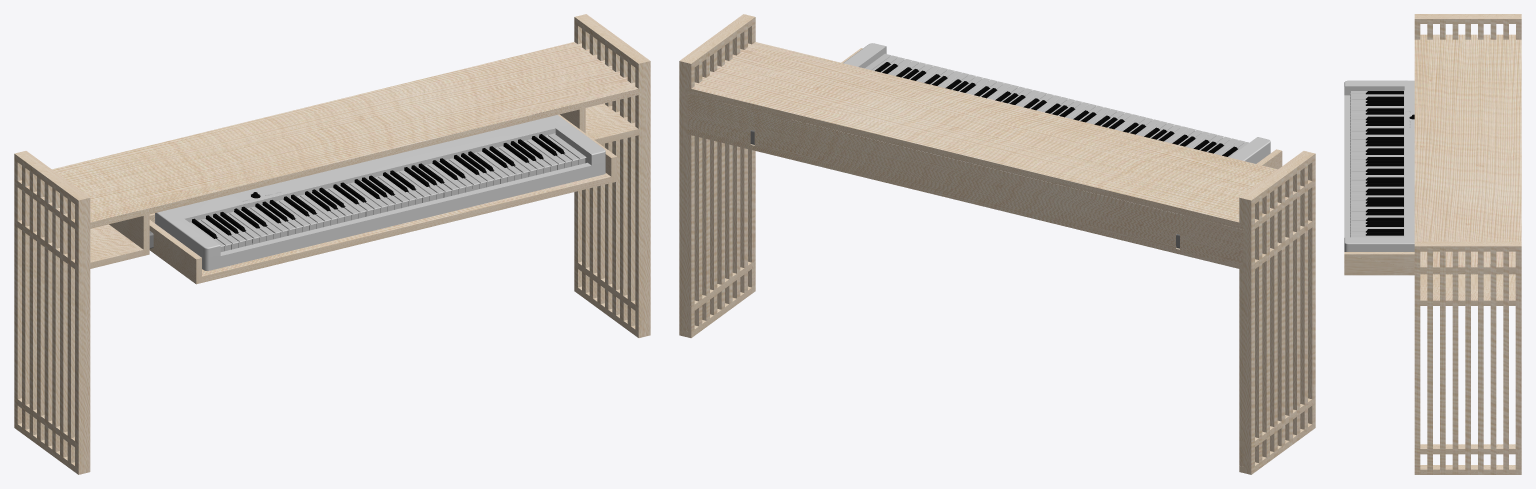
The model's file is site-assets-239.glb.
3 views of the same model, side by side, from view 1: azimuth 30°, elevation 25°; view 2: azimuth 150°, elevation 25°; view 3: azimuth 270°, elevation 25° (orthographic). The views are drawn at different scales.
Parts seen in each view (by area): view 1: Layer 02, base1, sharp37, key115; view 2: Layer 02, sharp37, key115, base1; view 3: Layer 02, sharp37, base1, key115.
Part boxes in pixels (x1,y1,x2,y2): Layer 02: (14, 14, 650, 474); base1: (155, 115, 605, 270); sharp37: (192, 134, 564, 238); key115: (211, 137, 571, 247); Layer 02: (679, 14, 1315, 474); sharp37: (875, 62, 1237, 156); key115: (881, 57, 1231, 151); base1: (843, 43, 1270, 163); Layer 02: (1344, 14, 1521, 474); sharp37: (1366, 91, 1403, 235); base1: (1344, 80, 1414, 251); key115: (1350, 99, 1367, 235).
Bounding box in the file's own units: 1.83 × 0.8382 × 0.5892.
5 materials, 1 textured.
